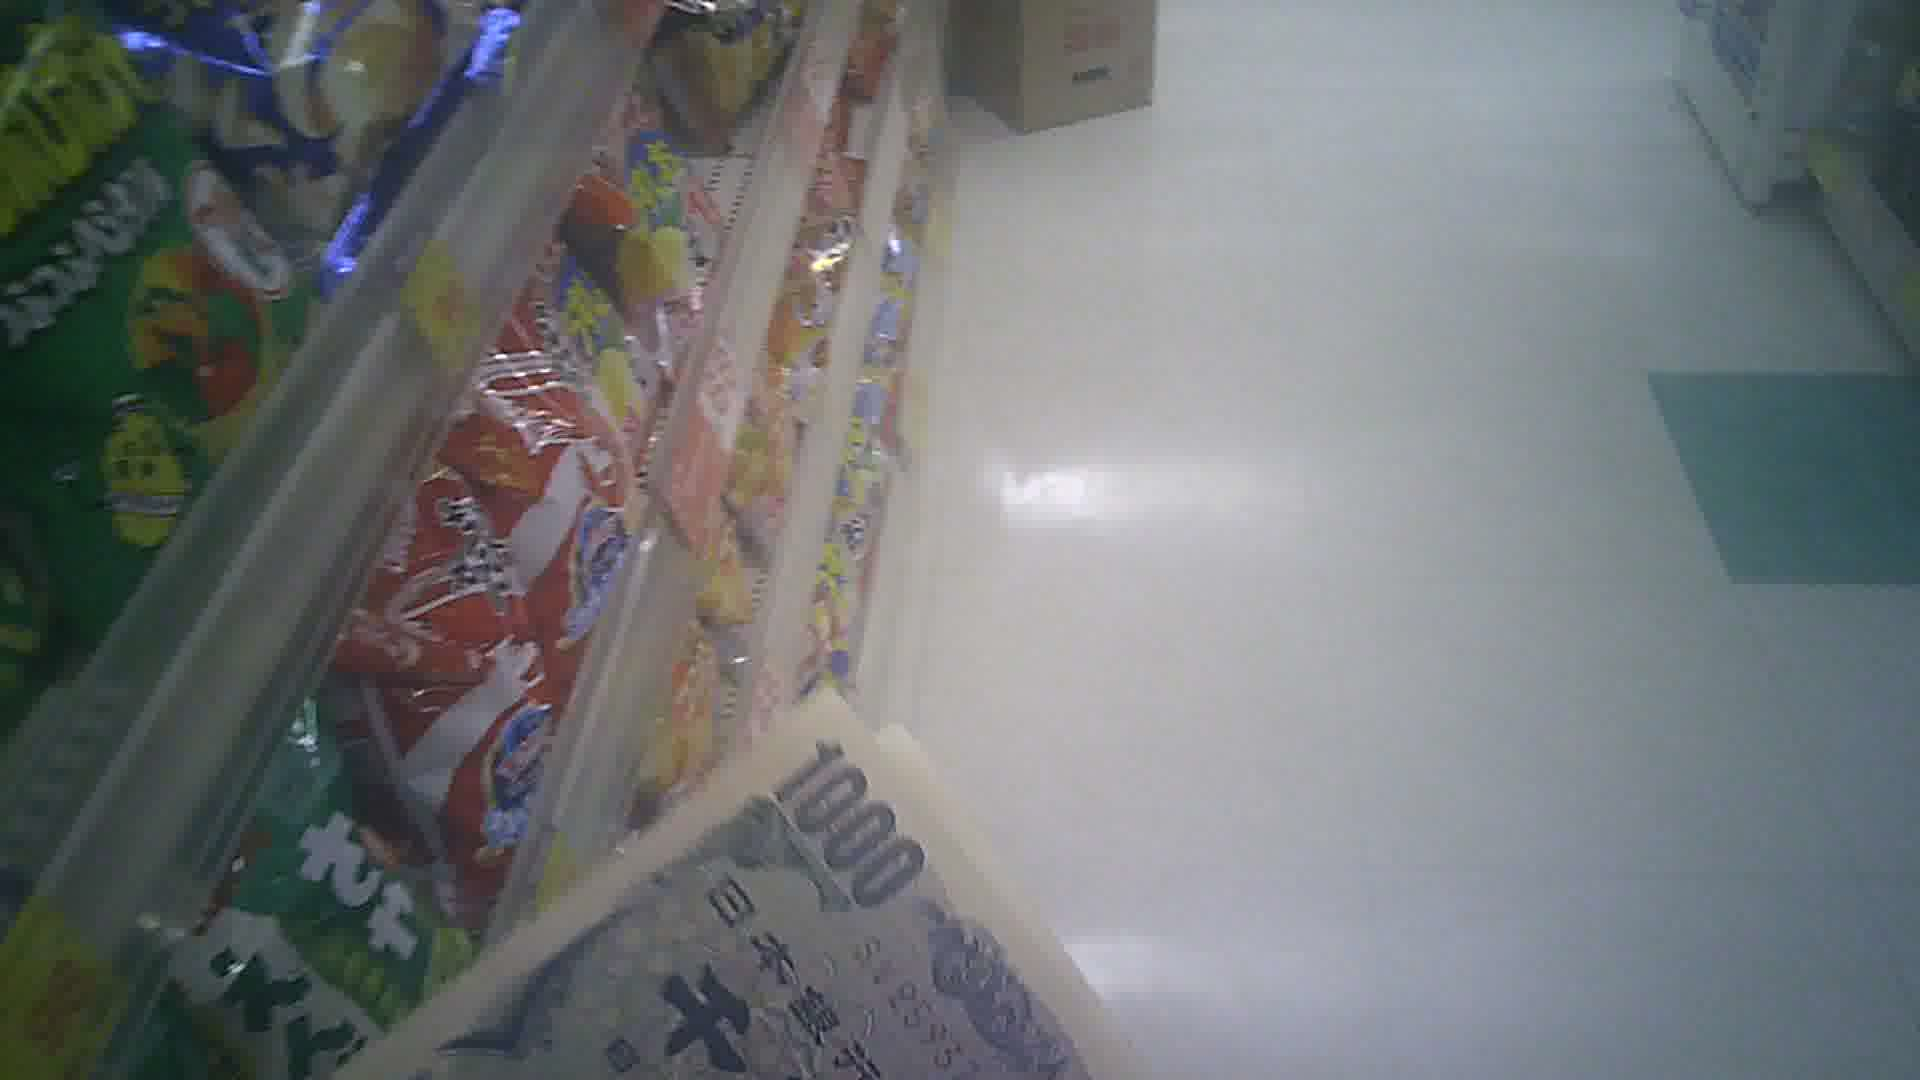1,000 Yen: (384, 700, 1120, 1079)
